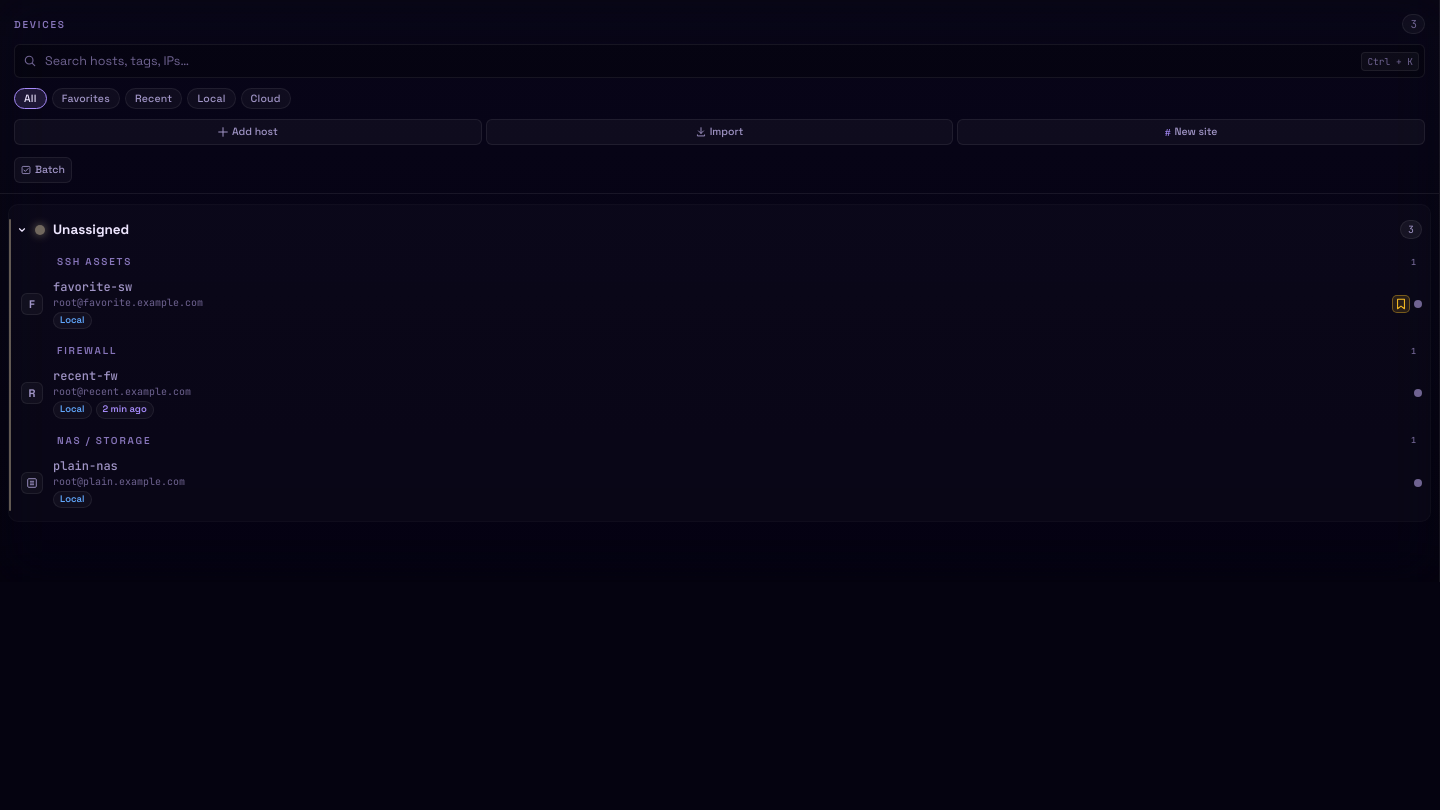
Test: host metadata › filters sidebar hosts by favorites and recent connections
Click the button "Favorites" at (86, 98), box 52,88 -> 120,109
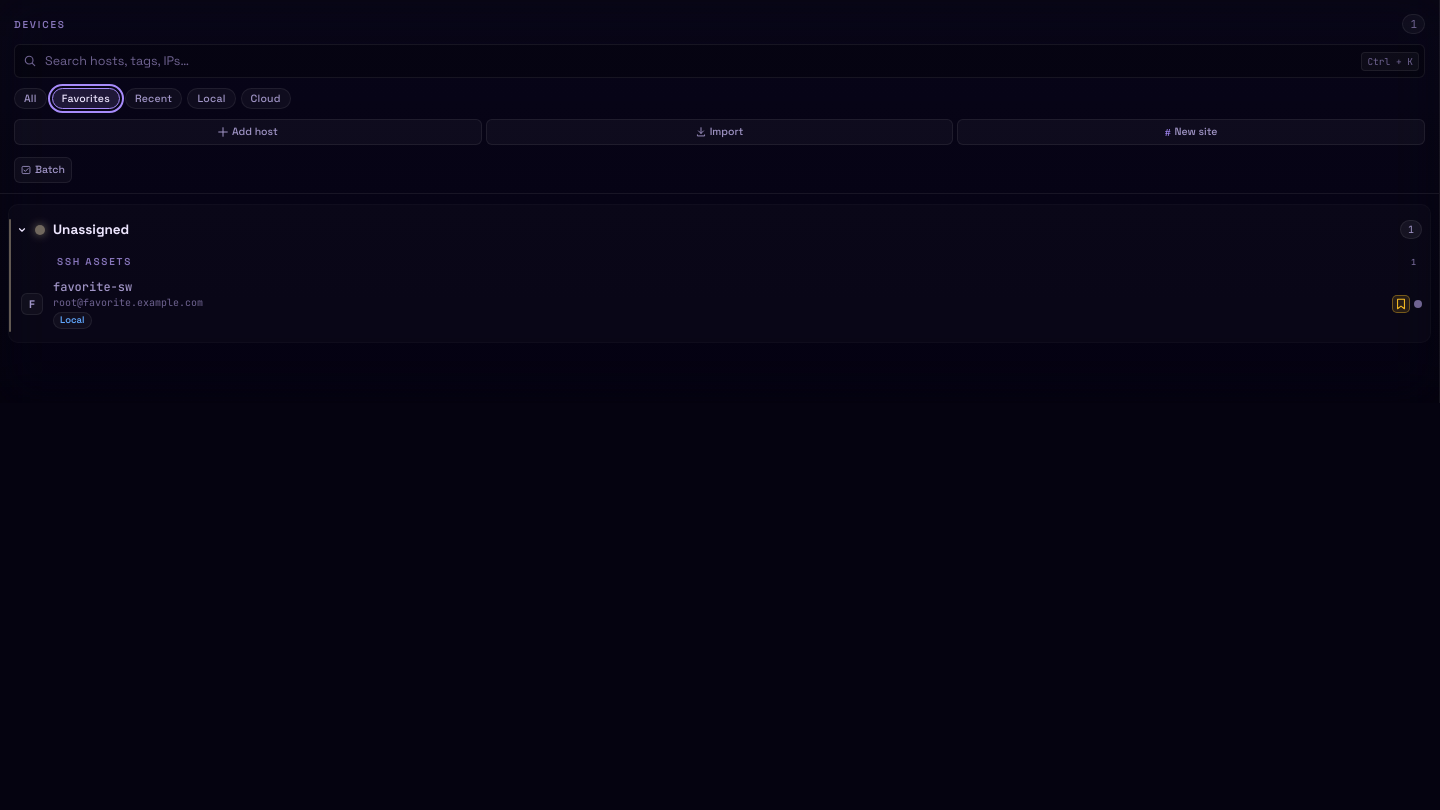
Expected: the text "favorite-sw" is shown, 53,279 -> 132,295
Expected: the text "plain-nas" is gone
Click the button "Recent" at (154, 98), box 125,88 -> 182,109
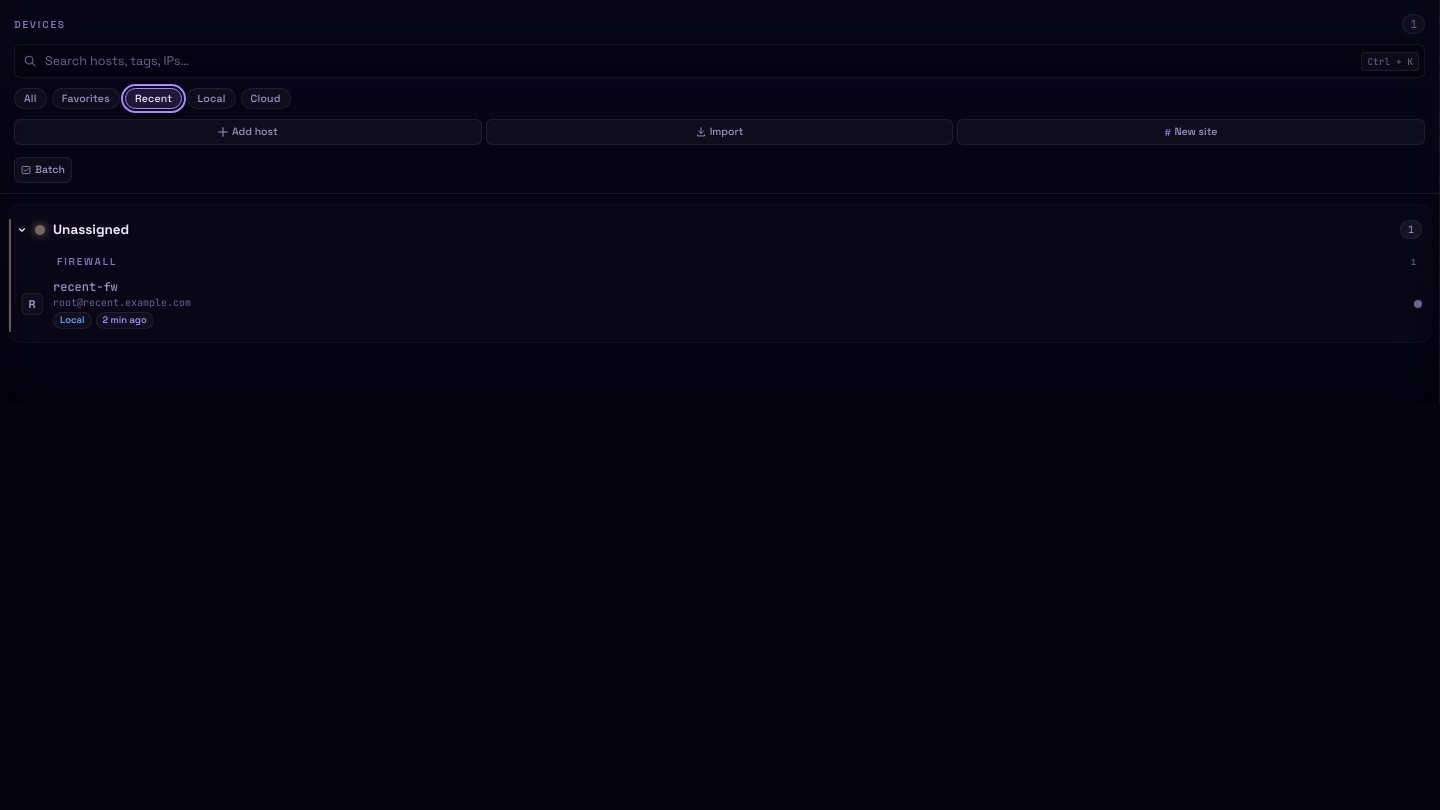
Expected: the text "plain-nas" is not shown
Expected: the text "recent-fw" is shown, 53,279 -> 118,295
